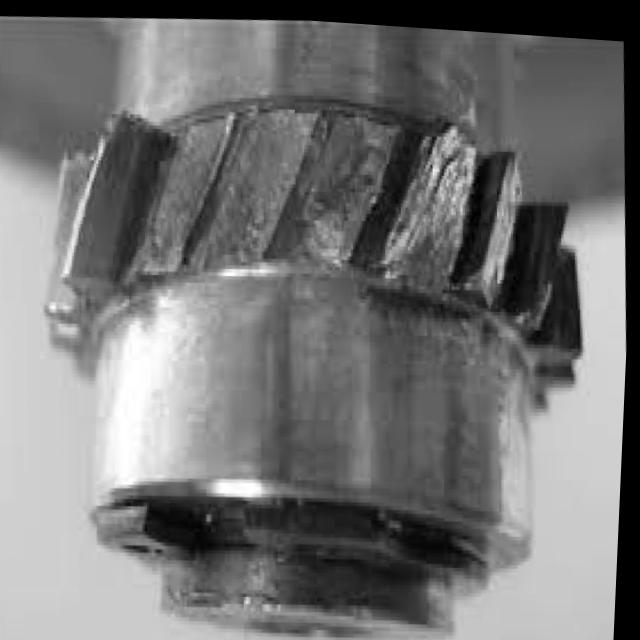Fault-Exist: (26, 66, 612, 403)
